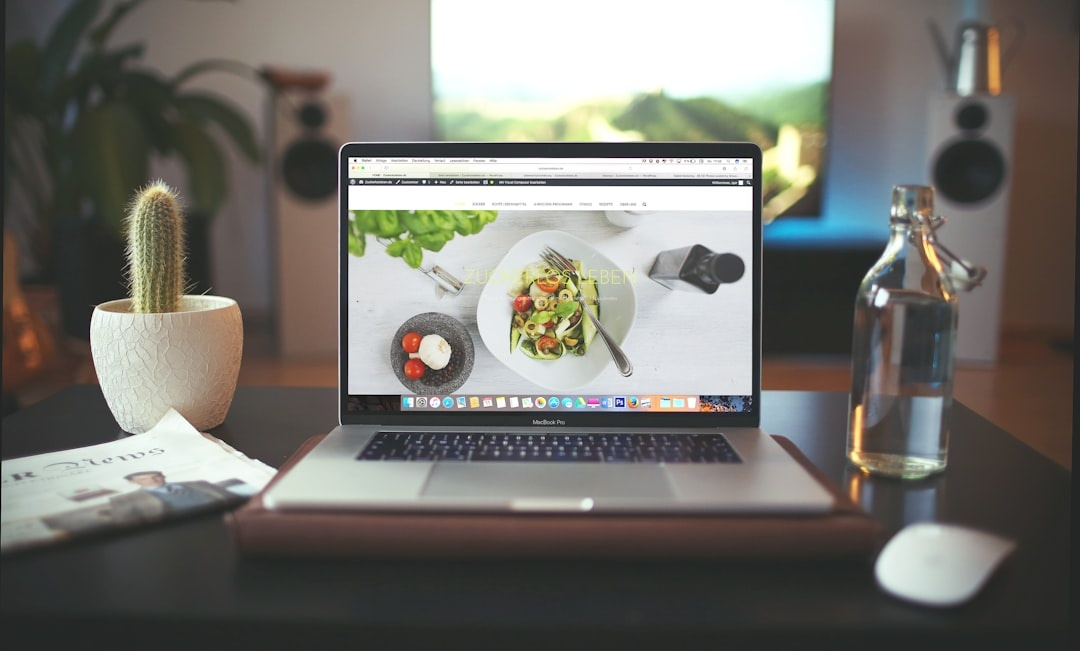laptop: (221, 122, 854, 532)
